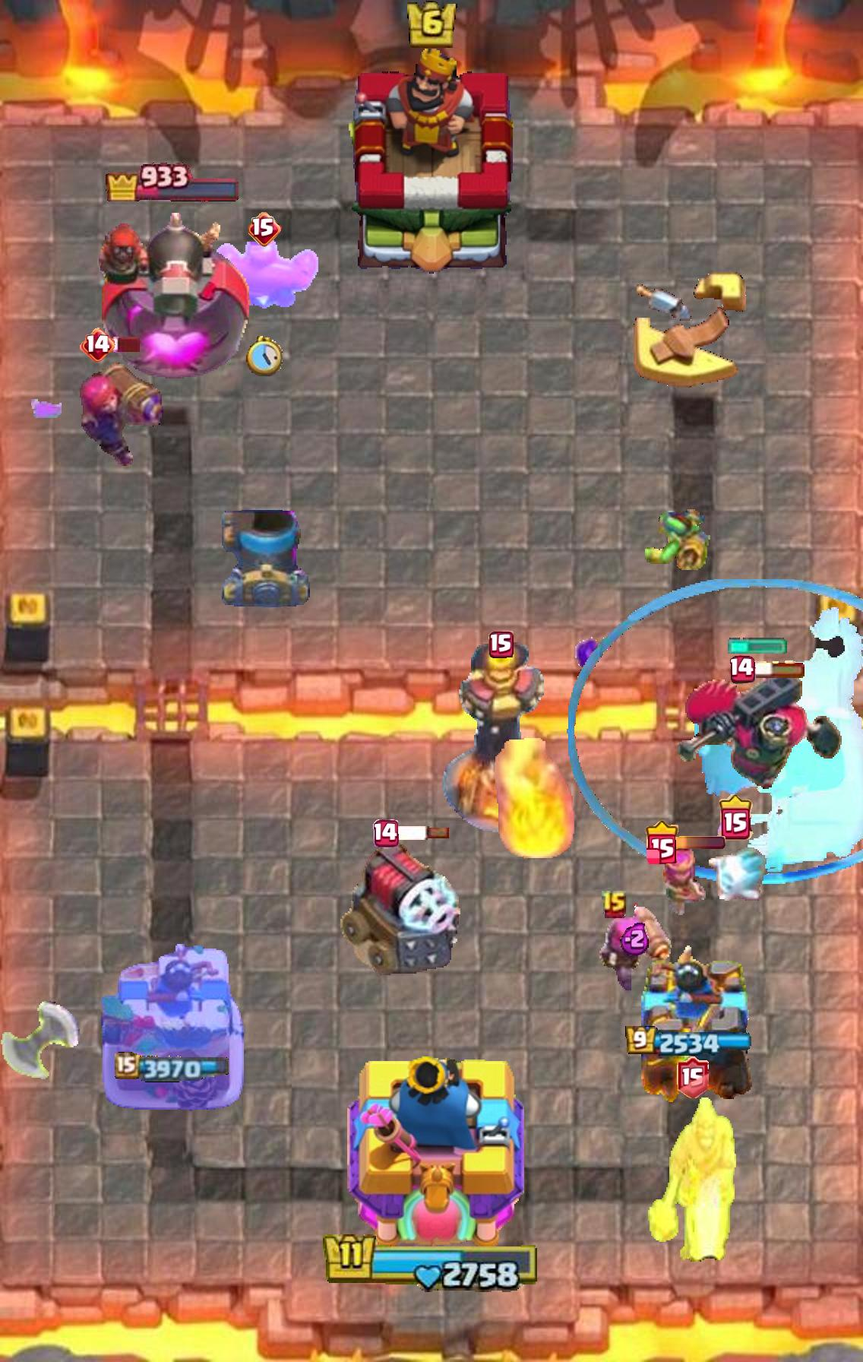bar: (752, 660, 807, 679), (395, 825, 450, 841), (675, 835, 726, 849), (112, 336, 142, 353)
bar-level: (718, 795, 753, 841), (646, 820, 679, 864), (677, 1057, 709, 1099), (79, 328, 115, 362), (247, 212, 281, 247), (601, 890, 628, 920), (730, 655, 756, 684), (373, 819, 399, 847), (489, 631, 514, 658)
